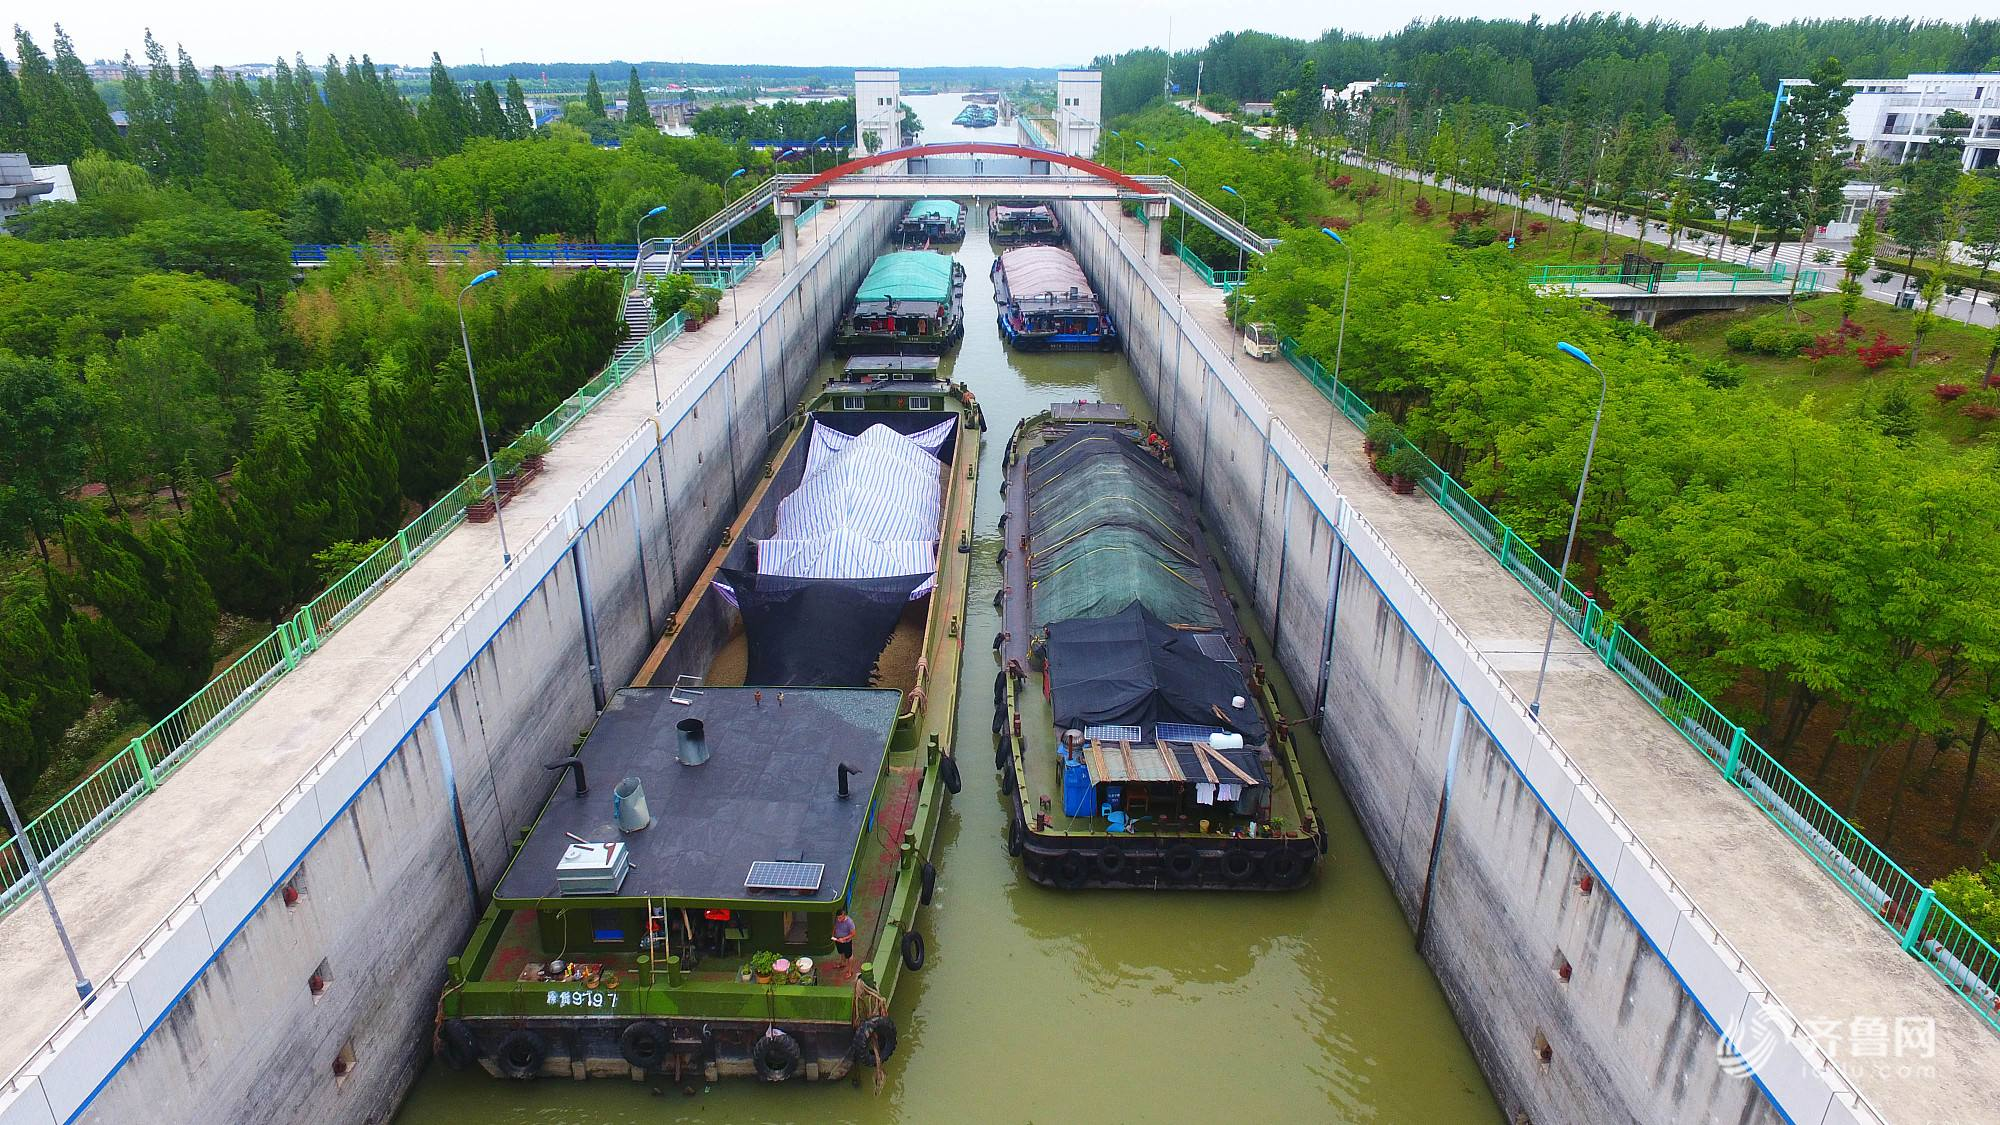boat: (446, 376, 990, 1071), (1007, 405, 1216, 891), (841, 245, 962, 363), (1012, 243, 1088, 341)
